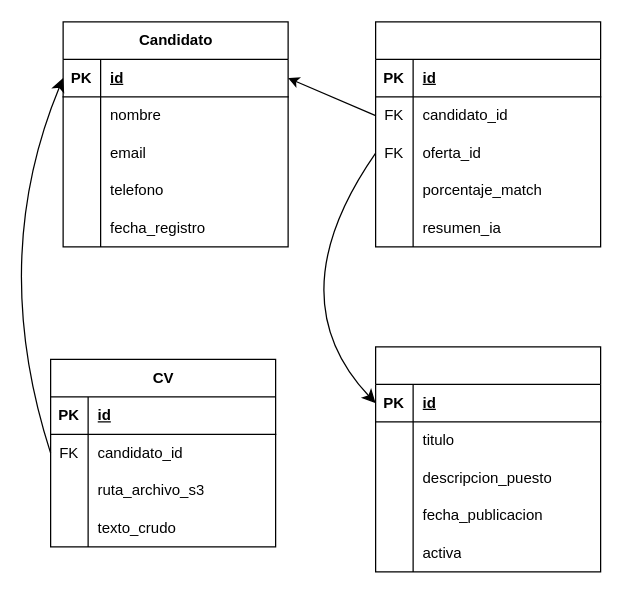
Image size: 624x594. Some labels were removed from this diagram. The shapes that lost their labels are listed below. From the top down, each one's box as (x1, y1, x2, y2) in pixels, then its label:
(374, 21, 601, 247): Postulacion
(374, 346, 601, 572): Oferta
